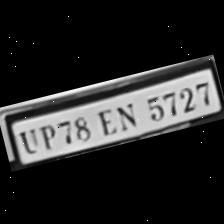2: (172, 81, 196, 113)
5: (139, 89, 166, 123)
7: (156, 86, 181, 118), (51, 114, 75, 146), (190, 76, 214, 108)
8: (67, 110, 94, 142)
E: (90, 102, 119, 136)
N: (108, 96, 140, 132)
P: (33, 118, 60, 150)
U: (14, 122, 40, 155)
